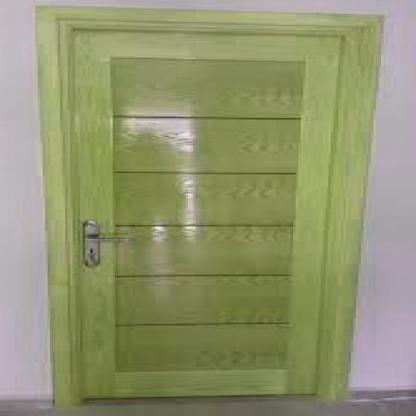door: (43, 3, 394, 413)
